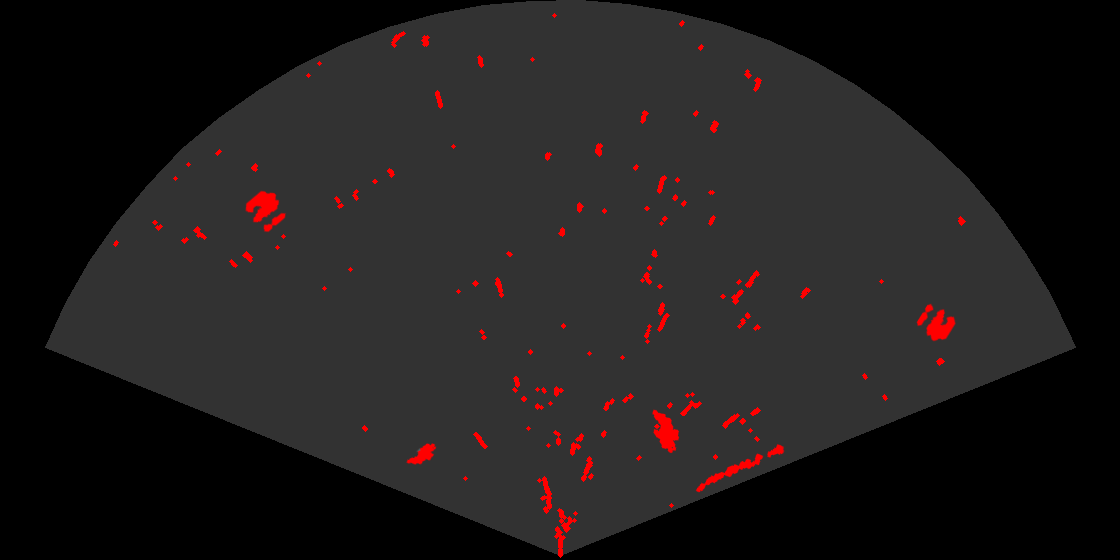AUV: (651, 408, 681, 455), (405, 442, 438, 466)
ball: (244, 189, 288, 234), (915, 302, 957, 343)
chain: (694, 443, 787, 494)
